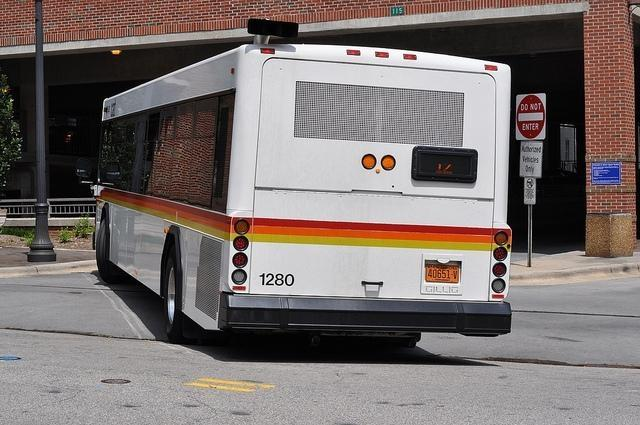bus: (89, 16, 517, 346)
